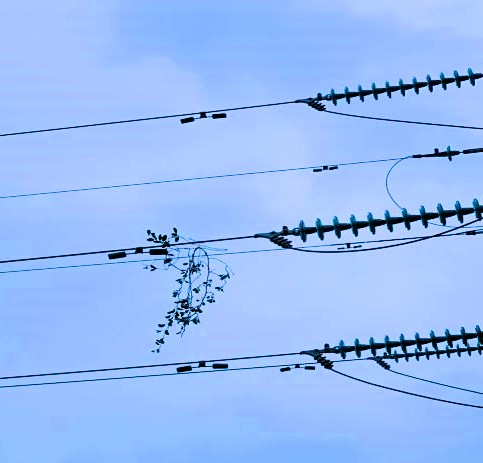wire foreign body: (146, 227, 238, 352)
